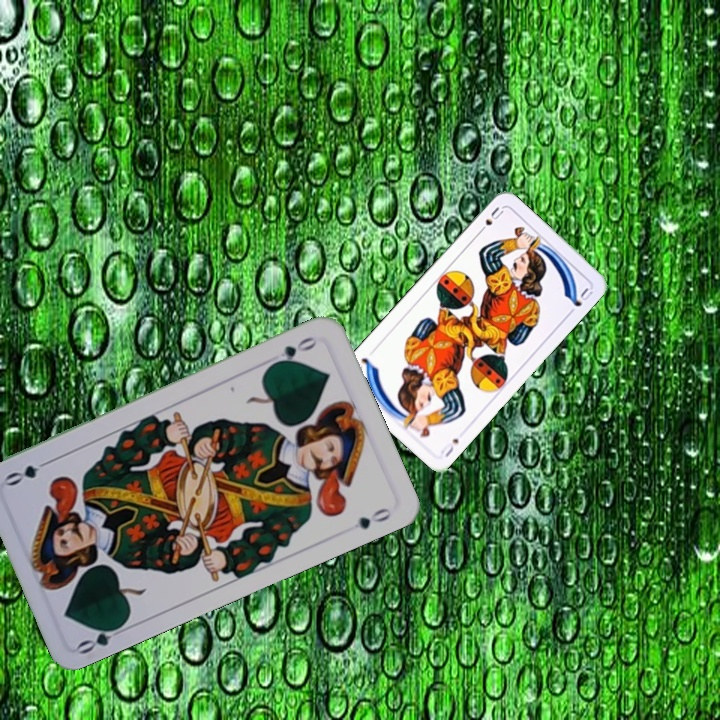GO: (74, 618, 131, 657), (267, 332, 320, 368)
SU: (474, 203, 506, 237), (437, 434, 461, 460)
